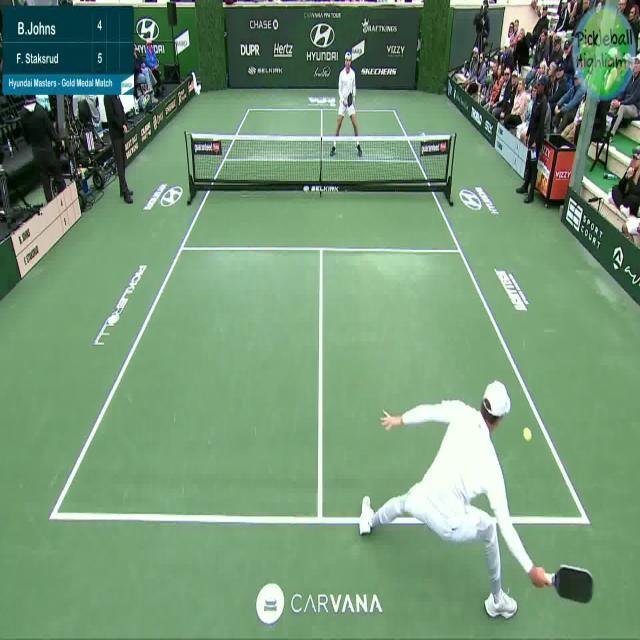Court: (51, 106, 587, 523)
ball: (521, 421, 536, 451)
